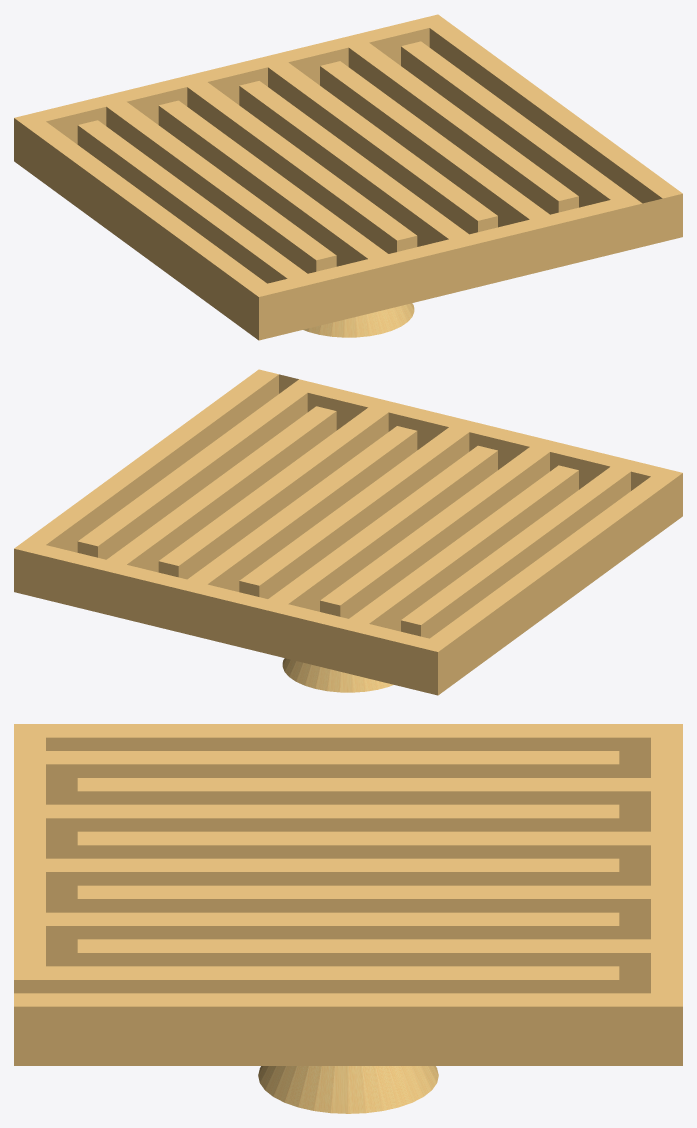
The model's file is Maze.dae.
3 renders of one model, top to bottom at view 1: azimuth 30°, elevation 25°; view 2: azimuth 150°, elevation 25°; view 3: azimuth 270°, elevation 25°, orthographic. The views are drawn at different scales.
Visible parts, largest first — view 1: Plane, Cone; view 2: Plane, Cone; view 3: Plane, Cone.
Boxes of the visible parts, left/top/right/bottom form: Plane: left=14, top=14, right=682, bottom=340; Cone: left=303, top=303, right=414, bottom=337; Plane: left=14, top=369, right=682, bottom=695; Cone: left=282, top=658, right=393, bottom=692; Plane: left=14, top=724, right=682, bottom=1065; Cone: left=258, top=1066, right=438, bottom=1113.
Size of the model in its own units: 2 by 2 by 0.6939.
3 materials, 3 textured.
